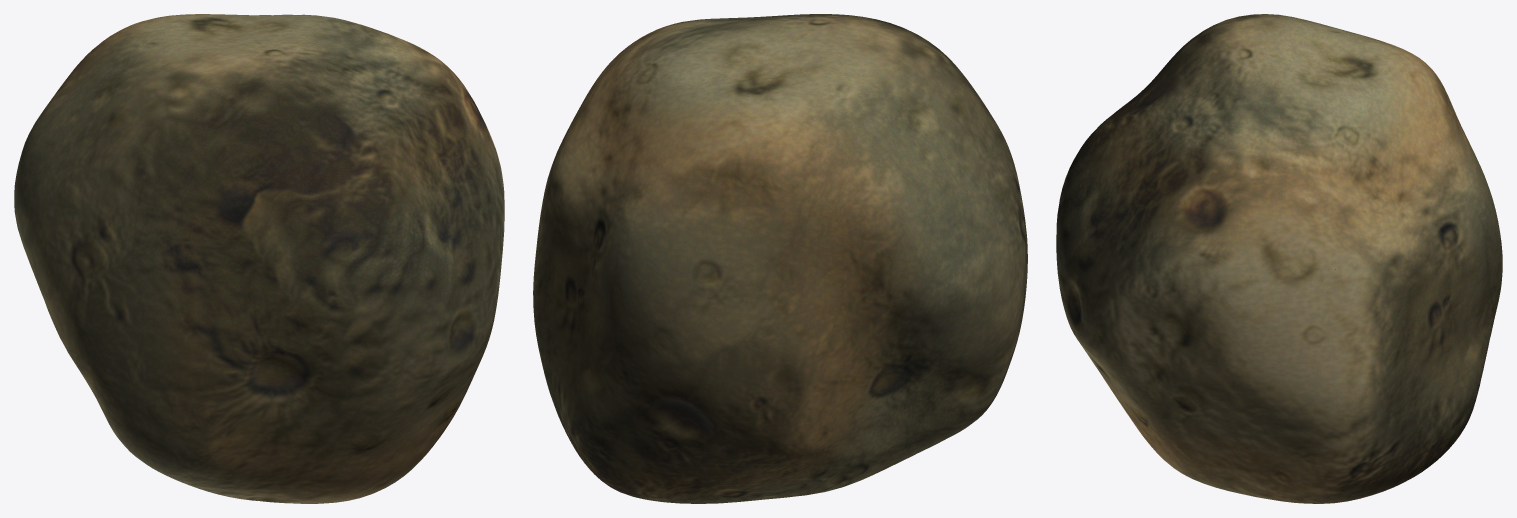
The model's file is AsteroidModel.obj.
The picture shows the model from 3 angles, left to right: view 1: azimuth 30°, elevation 25°; view 2: azimuth 150°, elevation 25°; view 3: azimuth 270°, elevation 25°; orthographic projection. The views are drawn at different scales.
Parts seen in each view (by area): view 1: 10464_Asteroid_v1; view 2: 10464_Asteroid_v1; view 3: 10464_Asteroid_v1.
Boxes of the visible parts, box(x1,y1,x2,y2) form: 10464_Asteroid_v1: box(14, 14, 504, 503); 10464_Asteroid_v1: box(533, 14, 1027, 503); 10464_Asteroid_v1: box(1056, 14, 1502, 503).
Bounding box in the file's own units: 1 × 1 × 1.
Materials: 1 (1 with a texture image).
